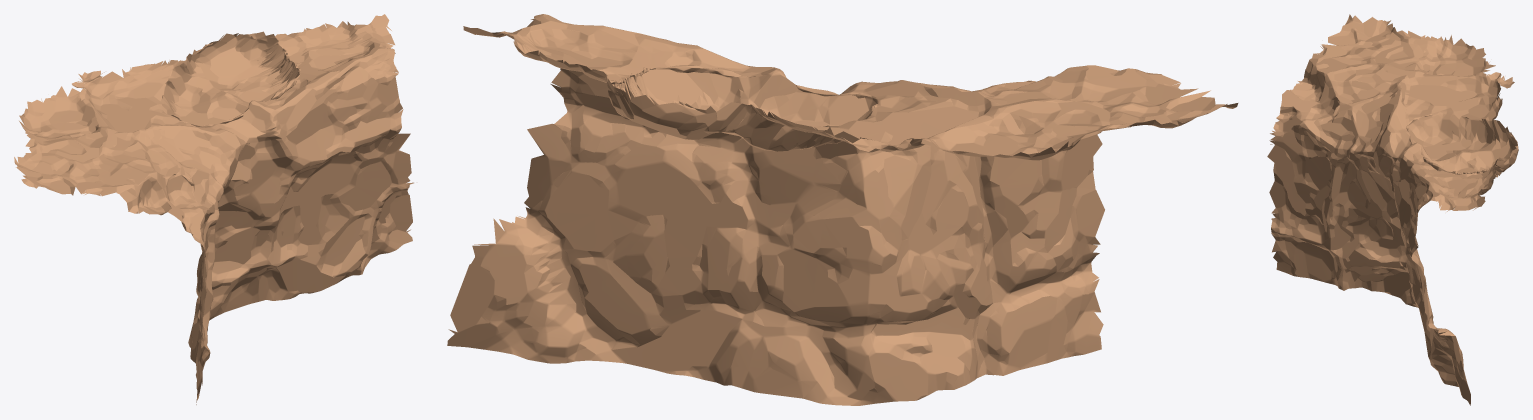
File: SandstoneBig_Mesh_40_005LODs.fbx
3 views of the same model, side by side, from view 1: azimuth 30°, elevation 25°; view 2: azimuth 150°, elevation 25°; view 3: azimuth 270°, elevation 25° (orthographic). The views are drawn at different scales.
Visible parts, largest first — view 1: Mesh_40.005_LOD0; view 2: Mesh_40.005_LOD0; view 3: Mesh_40.005_LOD0.
Boxes of the visible parts, left/top/right/bottom form: Mesh_40.005_LOD0: left=14, top=14, right=413, bottom=404; Mesh_40.005_LOD0: left=447, top=14, right=1238, bottom=405; Mesh_40.005_LOD0: left=1267, top=14, right=1518, bottom=405.
Size of what is drawn, in the model's own units: 14223 by 6916 by 7711.
